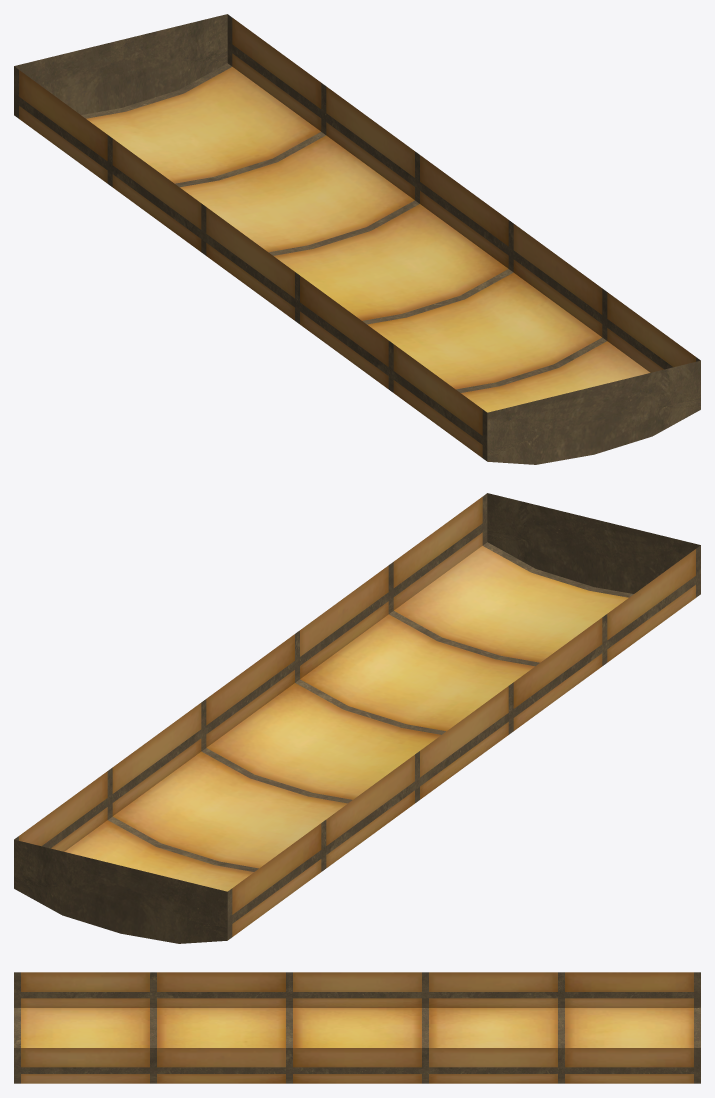
The model's file is p6_light_karma_column_short_LOD1.obj.
3 renders of one model, top to bottom at view 1: azimuth 30°, elevation 25°; view 2: azimuth 150°, elevation 25°; view 3: azimuth 270°, elevation 25°, orthographic. The views are drawn at different scales.
Parts seen in each view (by area): view 1: light_rice_paper_orange, dub_gold_shiny_01; view 2: light_rice_paper_orange, dub_gold_shiny_01; view 3: light_rice_paper_orange, dub_gold_shiny_01.
Part boxes in pixels (x1,y1,x2,y2): light_rice_paper_orange: (19, 18, 695, 457); dub_gold_shiny_01: (14, 14, 700, 464); light_rice_paper_orange: (19, 497, 695, 936); dub_gold_shiny_01: (14, 493, 700, 943); light_rice_paper_orange: (21, 972, 693, 1083); dub_gold_shiny_01: (14, 972, 700, 1083).
Bounding box in the file's own units: 63.5 × 19.34 × 244.
